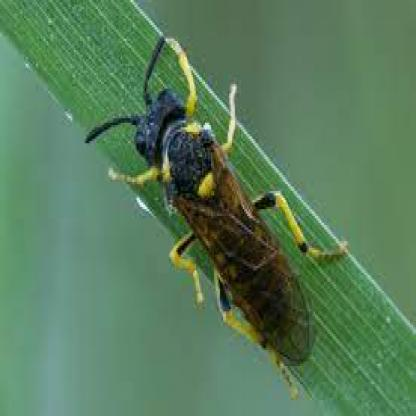sawfly: (95, 20, 341, 389)
